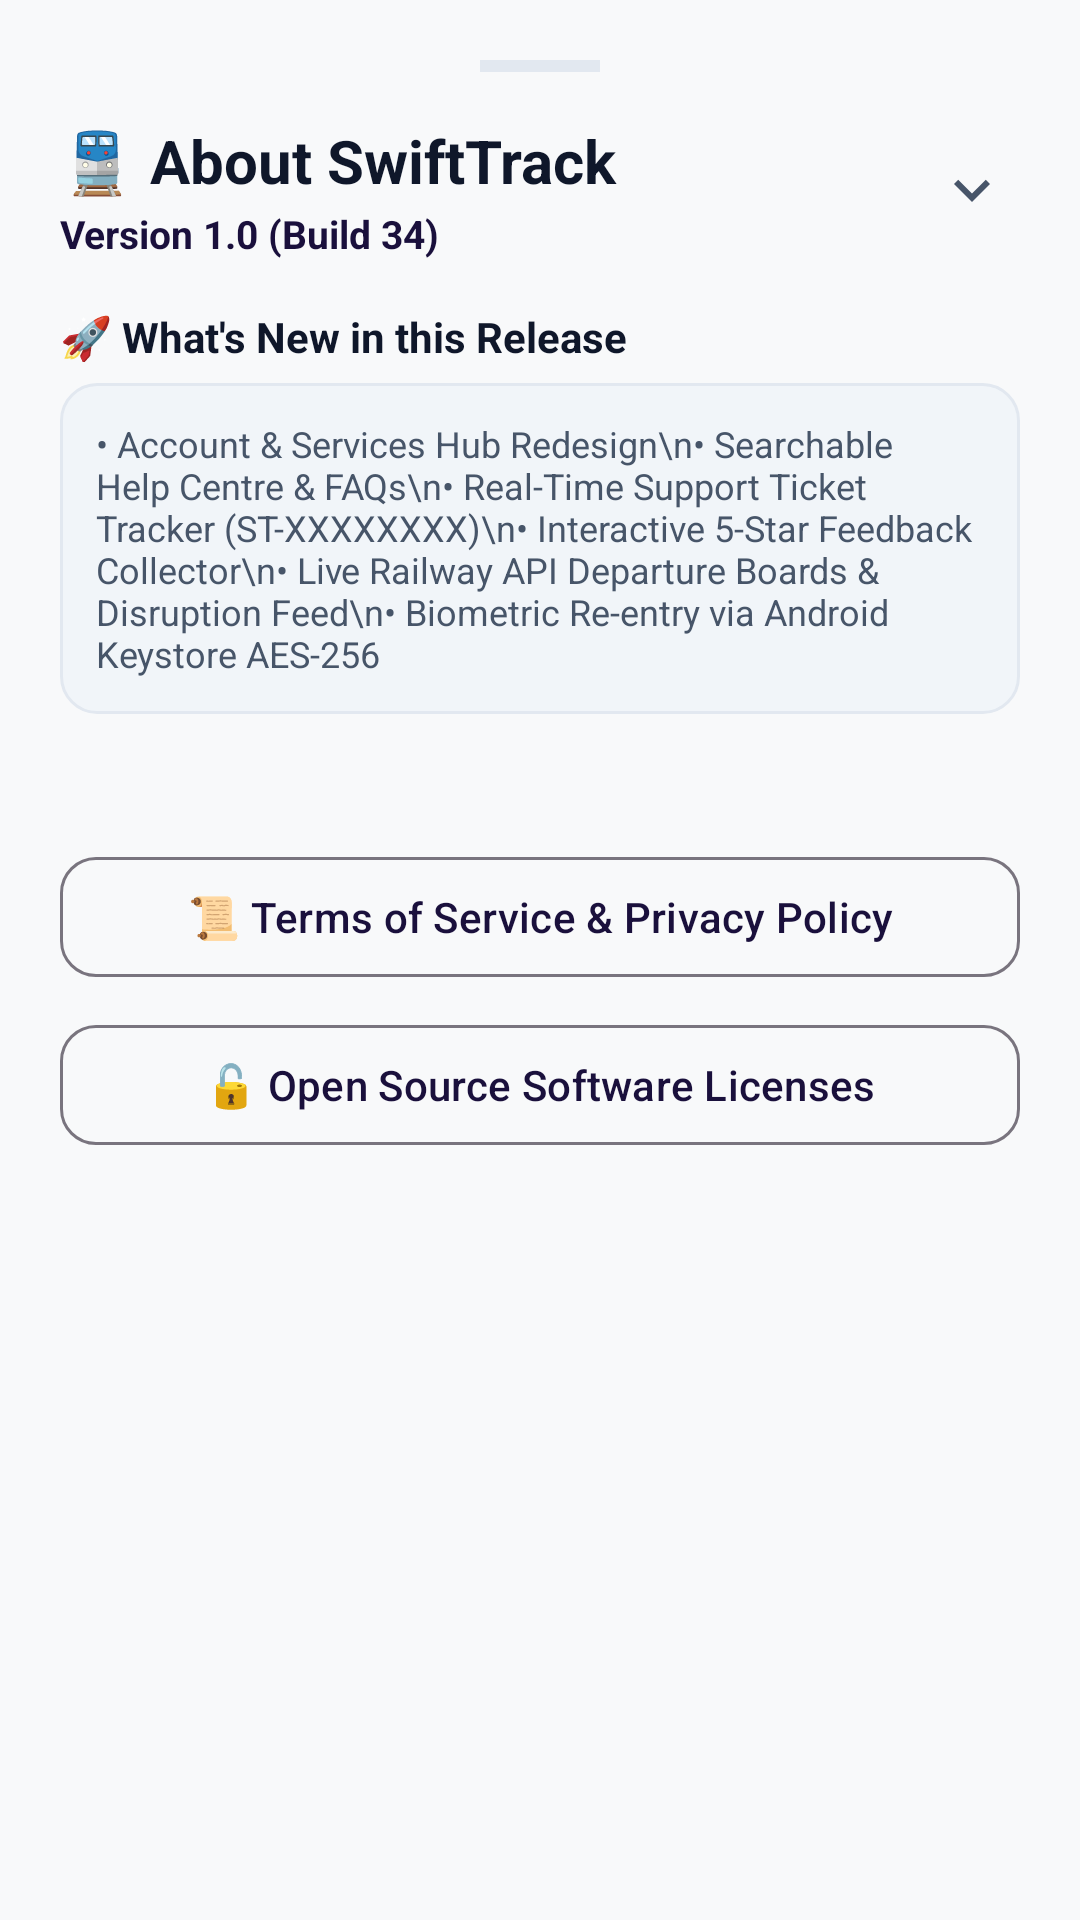

Where to tap for icons on this 1080*1920 app screen, as (x,y):
chevron down: (972,191)
